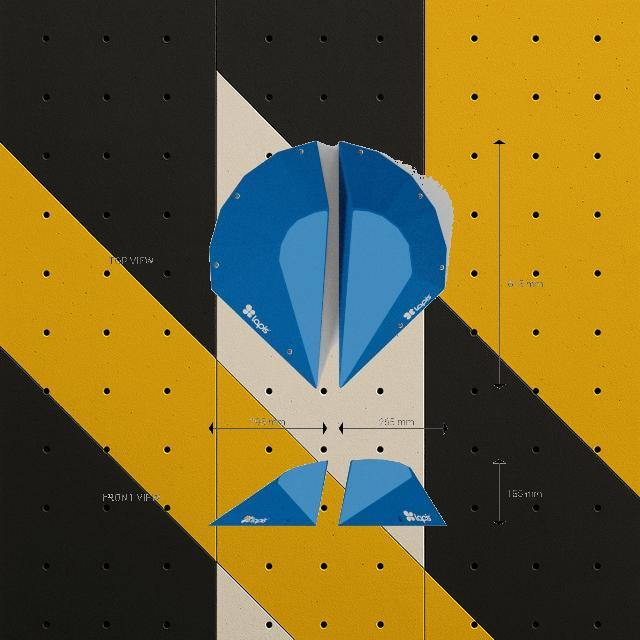Volume: (208, 138, 330, 388), (338, 139, 448, 387), (209, 458, 329, 526), (338, 458, 447, 526)
